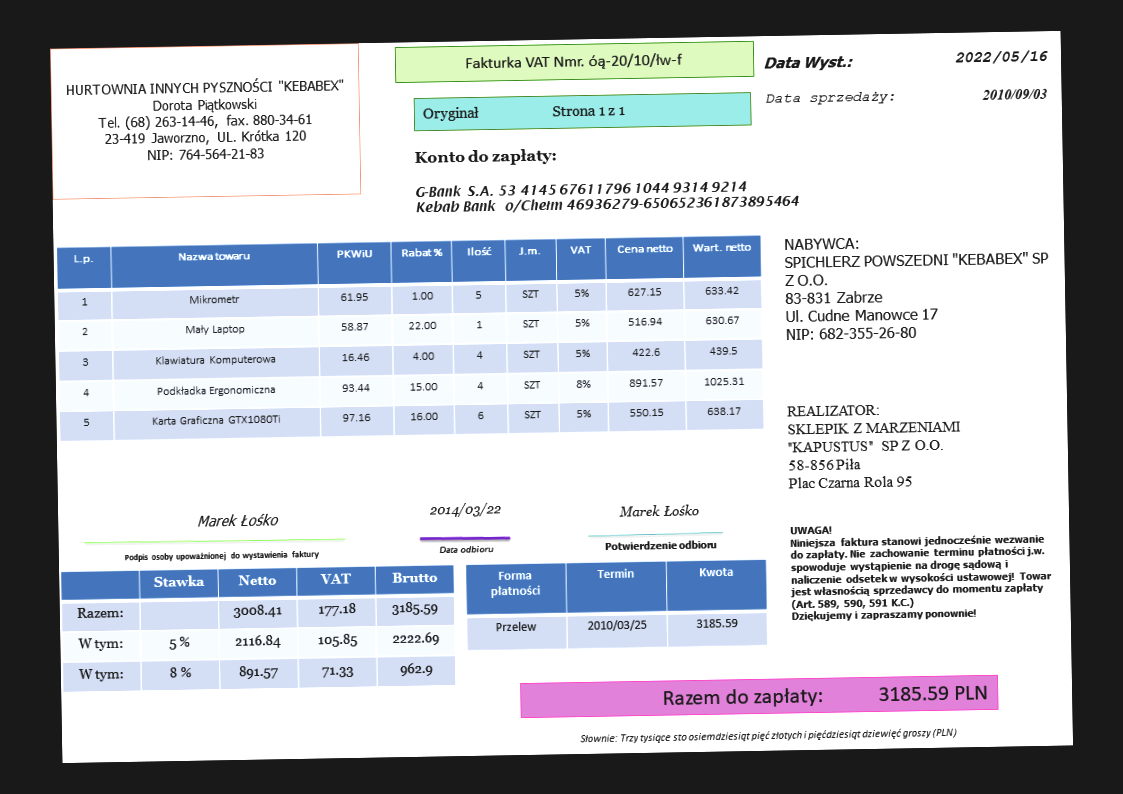Table: (55, 234, 765, 443), (60, 564, 458, 694), (464, 558, 769, 652)
TextBox: (781, 232, 1052, 344), (786, 518, 1055, 624), (64, 76, 348, 167), (784, 399, 965, 492), (412, 177, 801, 218), (661, 681, 990, 711), (578, 724, 960, 748), (462, 49, 683, 73), (421, 102, 627, 122), (120, 546, 323, 565), (411, 144, 560, 169), (763, 89, 895, 106), (951, 46, 1049, 67), (602, 537, 720, 554), (761, 52, 856, 71), (196, 510, 281, 529), (426, 501, 505, 521), (617, 503, 701, 521), (980, 86, 1047, 102), (436, 541, 495, 557)
